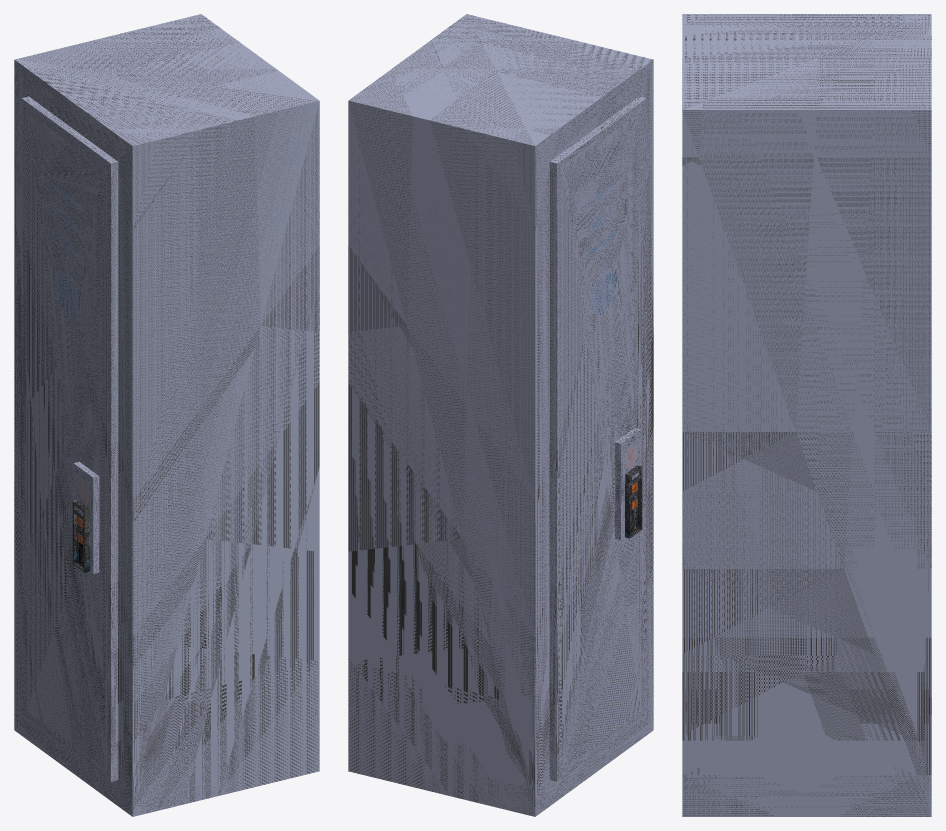
The model's file is locker.fbx.
3 views of the same model, side by side, from view 1: azimuth 30°, elevation 25°; view 2: azimuth 150°, elevation 25°; view 3: azimuth 270°, elevation 25° (orthographic). The views are drawn at different scales.
Visible parts, largest first — view 1: Group1; view 2: Group1; view 3: Group1.
Part boxes in pixels (x1,y1,x2,y2): Group1: (14,14,319,816); Group1: (348,14,653,816); Group1: (682,14,931,816).
Bounding box in the file's own units: 29.94 × 93.44 × 29.88.
